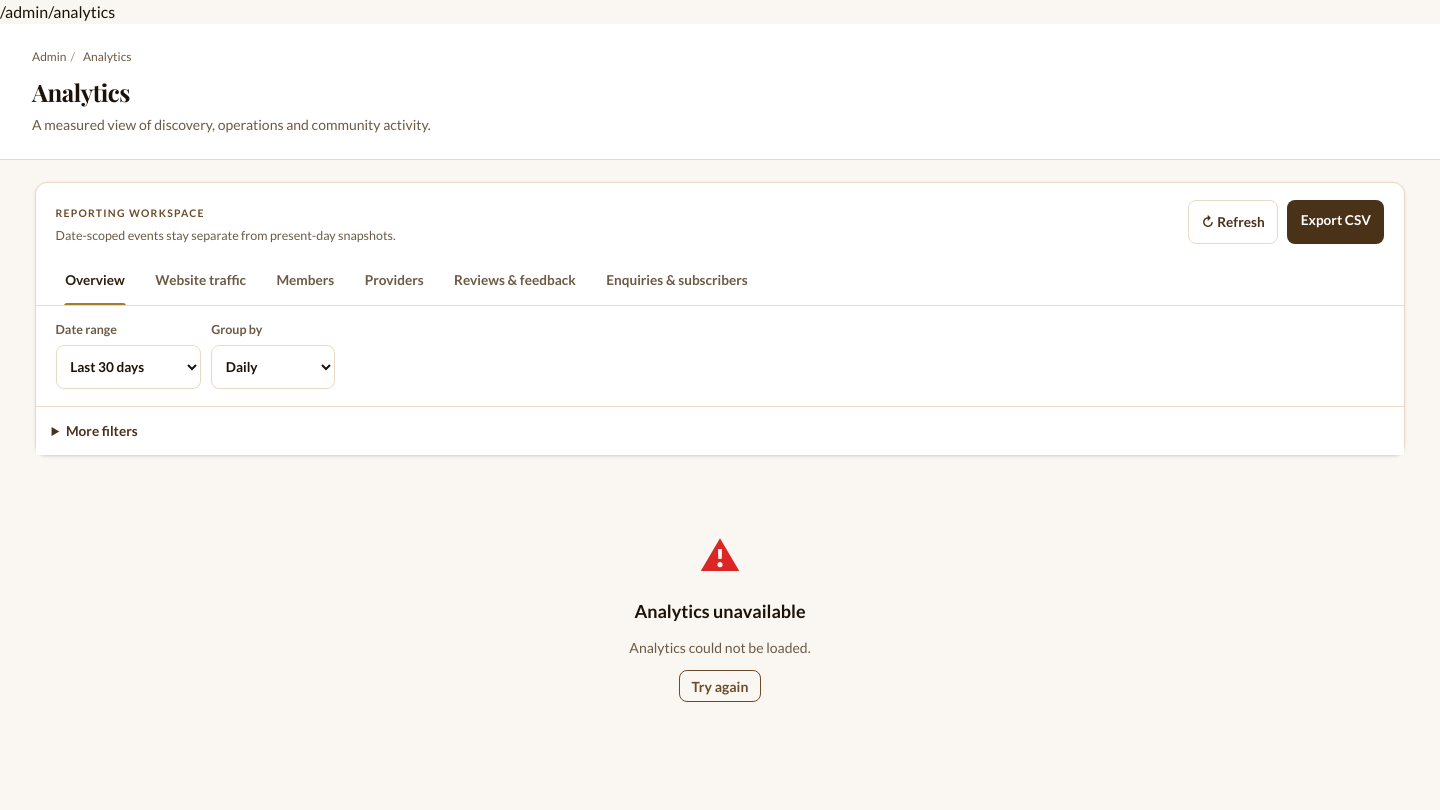
Test case: AnalyticsPage › reports summary errors with a retry action
Expected: the message shows "Analytics could not be loaded.", [629,639,811,656]
Click the button "Try again" at {"x": 720, "y": 686}, box [679,670,761,702]
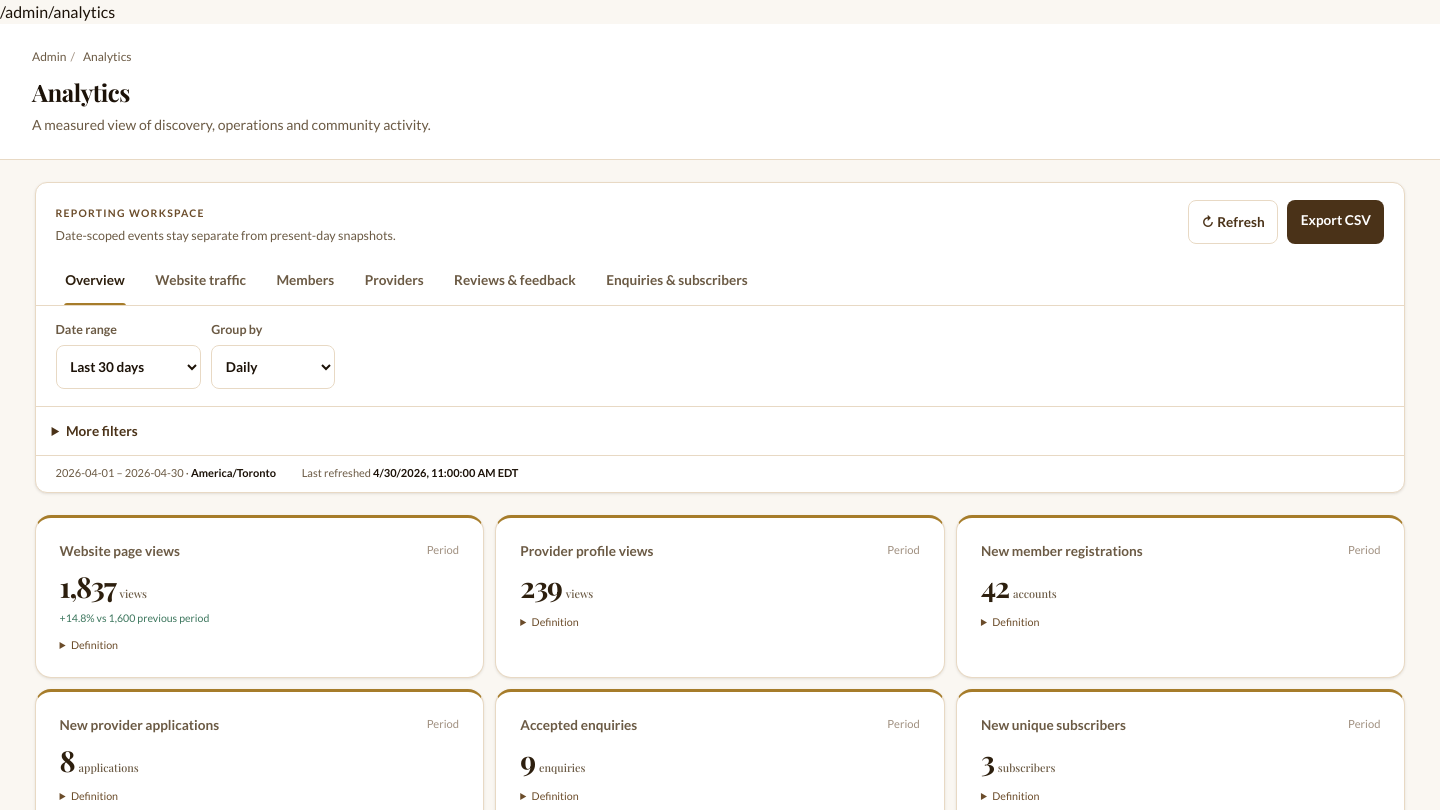
Expected: the text "1,837" is shown, [60,567,116,605]
